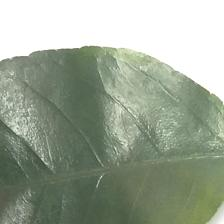healthy: (3, 59, 224, 223)
